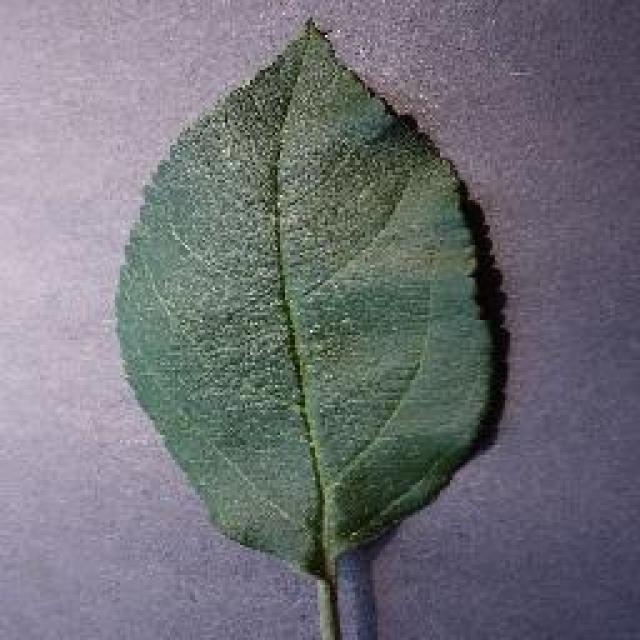Apple___healthy: (106, 11, 503, 591)
